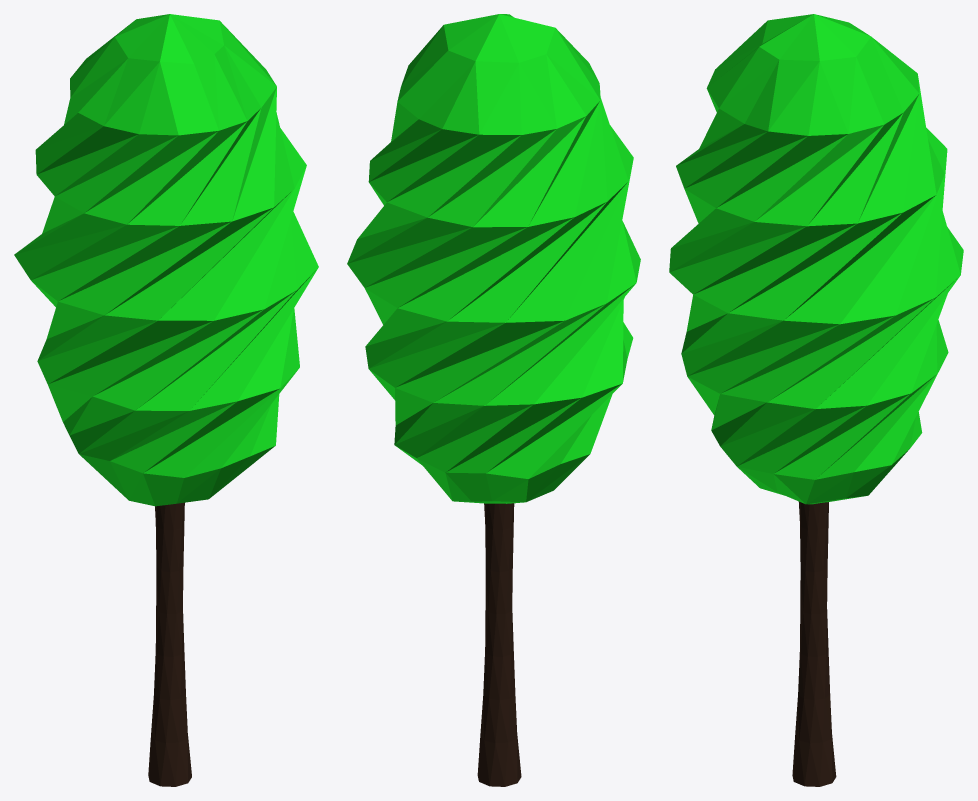
Rendered from tree_1.obj.
3 views of the same model, side by side, from view 1: azimuth 30°, elevation 25°; view 2: azimuth 150°, elevation 25°; view 3: azimuth 270°, elevation 25° (orthographic).
Parts seen in each view (by area): view 1: tree_1; view 2: tree_1; view 3: tree_1.
Boxes of the visible parts, left/top/right/bottom form: tree_1: left=14, top=14, right=318, bottom=786; tree_1: left=347, top=14, right=640, bottom=786; tree_1: left=669, top=14, right=963, bottom=786.
Size of the model in its own units: 140 by 403 by 140.
